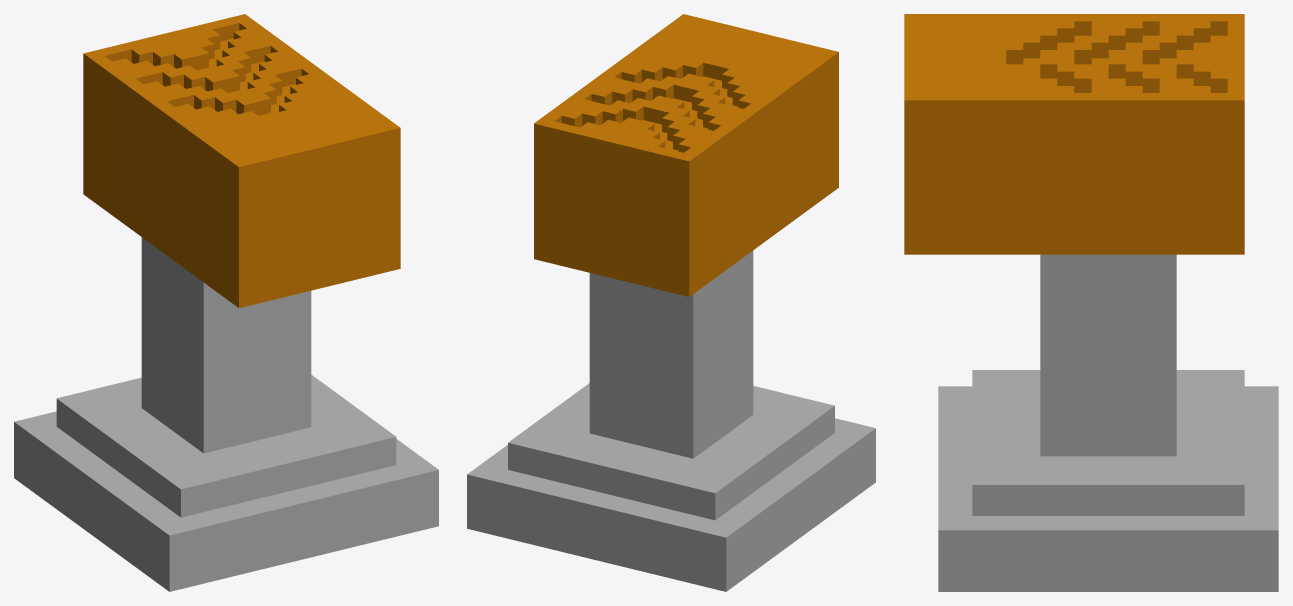
Rendered from FanBody.obj.
The picture shows the model from 3 angles, left to right: view 1: azimuth 30°, elevation 25°; view 2: azimuth 150°, elevation 25°; view 3: azimuth 270°, elevation 25°; orthographic projection. The views are drawn at different scales.
Parts seen in each view (by area): view 1: FanBody; view 2: FanBody; view 3: FanBody.
Boxes of the visible parts, bbox=[...] form: FanBody: bbox=[14, 14, 438, 591]; FanBody: bbox=[467, 14, 875, 591]; FanBody: bbox=[904, 14, 1278, 591].
Bounding box in the file's own units: 2 × 3 × 2.2.
Materials: 1 (1 with a texture image).
